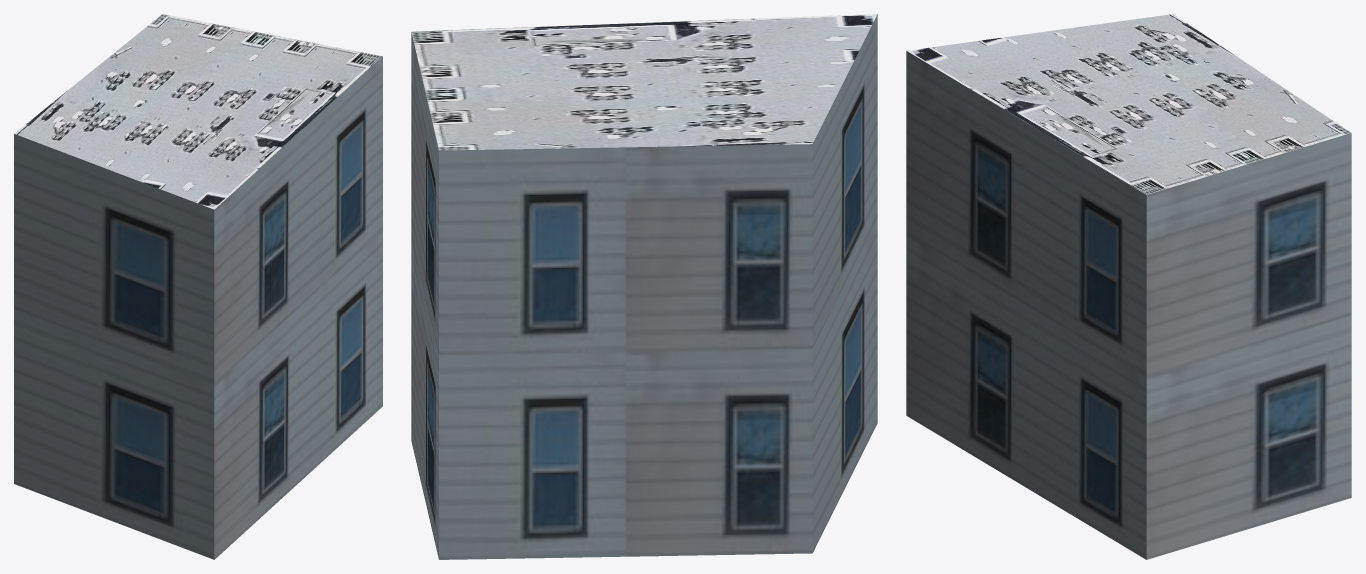
File: ResTex__1728.fbx
3 views of the same model, side by side, from view 1: azimuth 30°, elevation 25°; view 2: azimuth 150°, elevation 25°; view 3: azimuth 270°, elevation 25° (orthographic). The views are drawn at different scales.
Visible parts, largest first — view 1: CityEngineMaterial_18_m, CityEngineMaterial_m; view 2: CityEngineMaterial_18_m, CityEngineMaterial_m; view 3: CityEngineMaterial_18_m, CityEngineMaterial_m.
Part boxes in pixels (x1,y1,x2,y2): CityEngineMaterial_18_m: (14, 56, 382, 559); CityEngineMaterial_m: (14, 14, 382, 209); CityEngineMaterial_18_m: (411, 14, 877, 559); CityEngineMaterial_m: (411, 14, 877, 150); CityEngineMaterial_18_m: (906, 51, 1351, 559); CityEngineMaterial_m: (906, 14, 1350, 194).
Size of the model in its own units: 6.38 by 6 by 6.63.
Materials: 2 (2 with a texture image).
